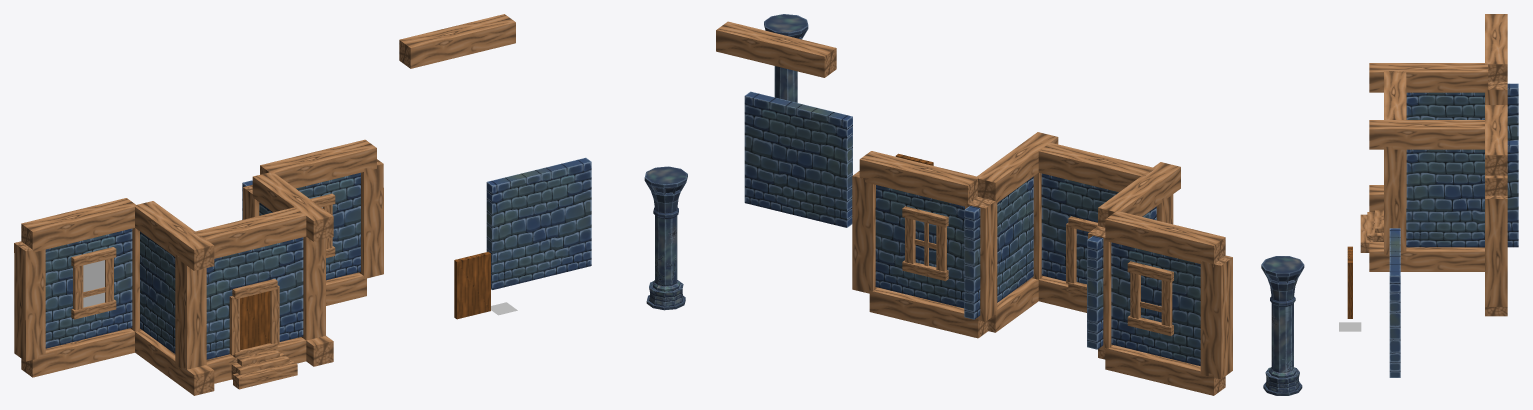
The model's file is Wall_Door_Pillar_Window.fbx.
The picture shows the model from 3 angles, left to right: view 1: azimuth 30°, elevation 25°; view 2: azimuth 150°, elevation 25°; view 3: azimuth 270°, elevation 25°; orthographic projection. The views are drawn at different scales.
Parts seen in each view (by area): view 1: Cube, Cube_002, Cube_015, Cylinder, Cube_037, Cube_014, Cube_019, Cube_010, Cube_018, Cube_006, Cube_013, Cube_004 (+15 smaller); view 2: Cube, Cube_015, Cube_018, Cube_009, Cube_002, Cube_037, Cube_014, Cube_019, Cube_013, Cube_004, Cube_017, Cube_016 (+19 smaller); view 3: Cube_009, Cylinder, Cube_012, Cube_011, Cube_010, Cube_007, Cube_001, Cube_005, Cube, Cube_037, Cube_014, Cube_004 (+6 smaller).
Boxes of the visible parts, bbox=[...] form: Cube: bbox=[486, 157, 591, 289]; Cube_002: bbox=[206, 237, 303, 359]; Cube_015: bbox=[45, 228, 132, 348]; Cylinder: bbox=[644, 166, 687, 310]; Cube_037: bbox=[399, 14, 515, 68]; Cube_014: bbox=[21, 198, 135, 252]; Cube_019: bbox=[14, 241, 45, 361]; Cube_010: bbox=[140, 231, 175, 353]; Cube_018: bbox=[296, 172, 360, 280]; Cube_006: bbox=[175, 254, 206, 369]; Cube_013: bbox=[260, 139, 376, 188]; Cube_004: bbox=[192, 207, 306, 258]; Cube: bbox=[744, 91, 852, 227]; Cube_015: bbox=[1111, 242, 1200, 365]; Cube_018: bbox=[875, 185, 964, 308]; Cube_009: bbox=[964, 176, 1033, 319]; Cube_002: bbox=[1041, 173, 1118, 284]; Cube_037: bbox=[716, 21, 836, 77]; Cube_014: bbox=[1105, 211, 1225, 267]; Cube_019: bbox=[1200, 255, 1232, 379]; Cube_013: bbox=[859, 151, 979, 206]; Cube_004: bbox=[1038, 142, 1155, 191]; Cube_017: bbox=[1105, 345, 1225, 395]; Cube_016: bbox=[869, 287, 988, 338]; Cube_009: bbox=[1406, 140, 1518, 247]; Cylinder: bbox=[1261, 256, 1304, 395]; Cube_012: bbox=[1369, 120, 1484, 149]; Cube_011: bbox=[1369, 63, 1488, 92]; Cube_010: bbox=[1406, 83, 1518, 140]; Cube_007: bbox=[1369, 242, 1484, 271]; Cube_001: bbox=[1485, 195, 1507, 306]; Cube_005: bbox=[1384, 146, 1406, 254]; Cube: bbox=[1389, 228, 1400, 377]; Cube_037: bbox=[1485, 105, 1507, 175]; Cube_014: bbox=[1485, 14, 1507, 81]; Cube_004: bbox=[1384, 71, 1406, 119].
Bounding box in the file's own units: 55.84 × 22.81 × 22.92.
